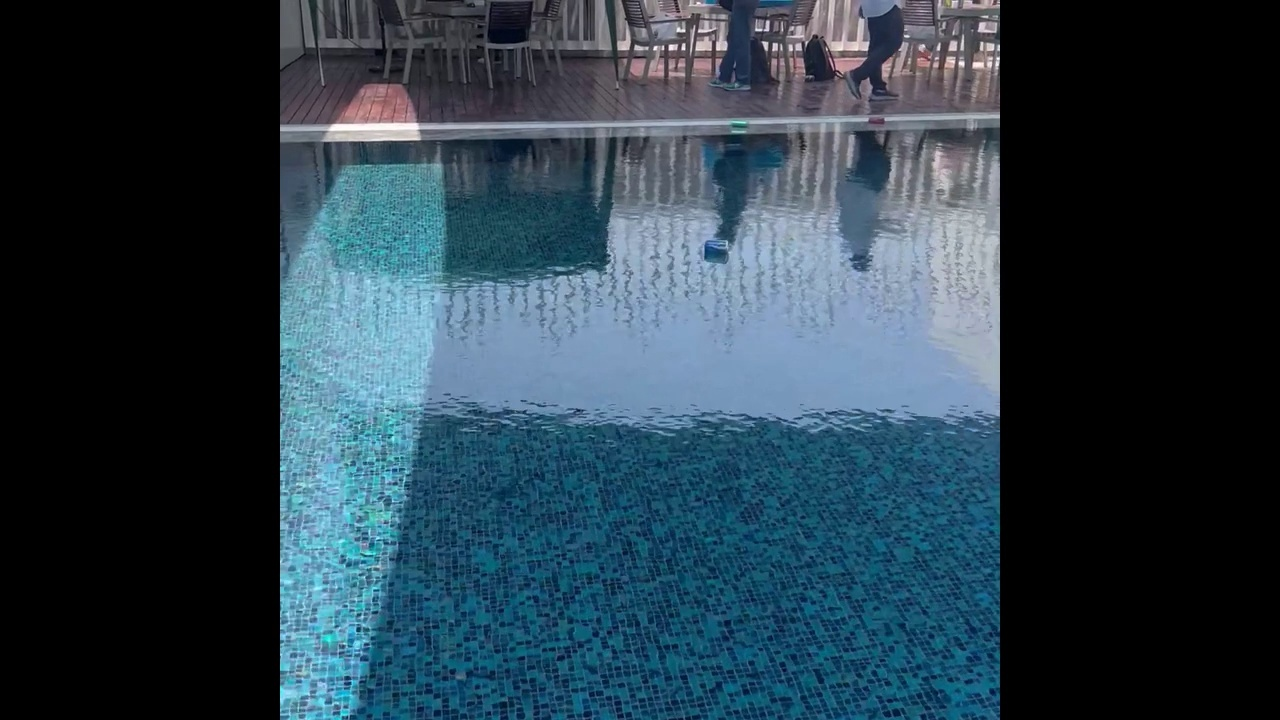debris: (701, 235, 730, 257), (728, 116, 752, 132), (866, 114, 888, 126)
